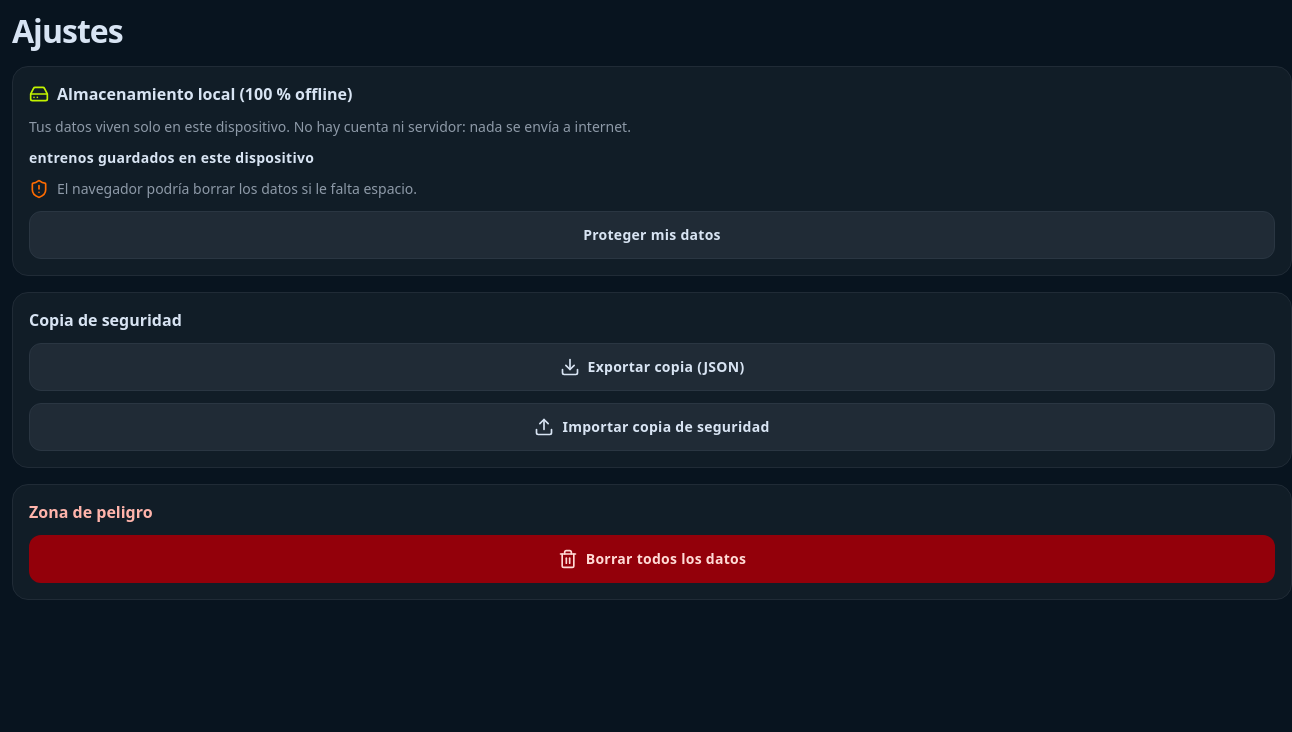
it: almacenamiento persistente › ofrece protegerlo y lo pide al pulsar
Click the button "Proteger mis datos": [652, 235] box [29,211,1275,259]
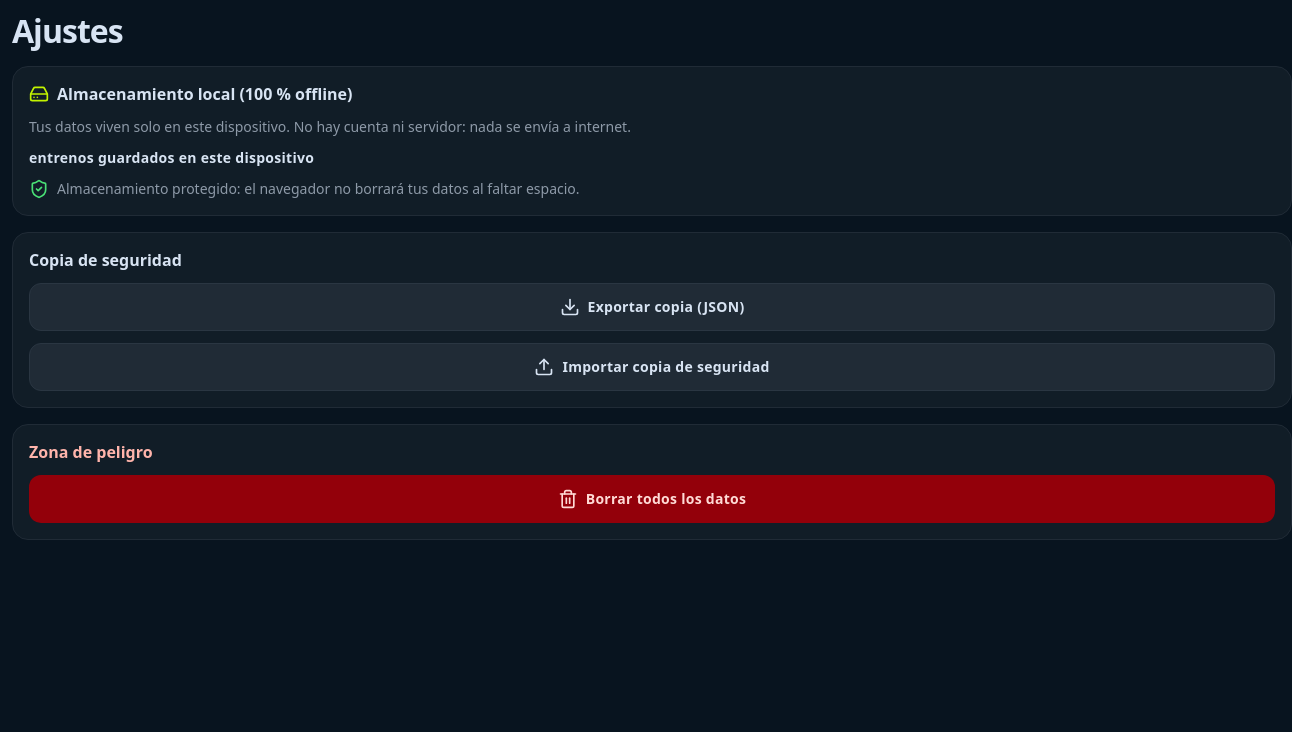
Result: the text "Almacenamiento protegido" is shown at [57,179,580,198]
